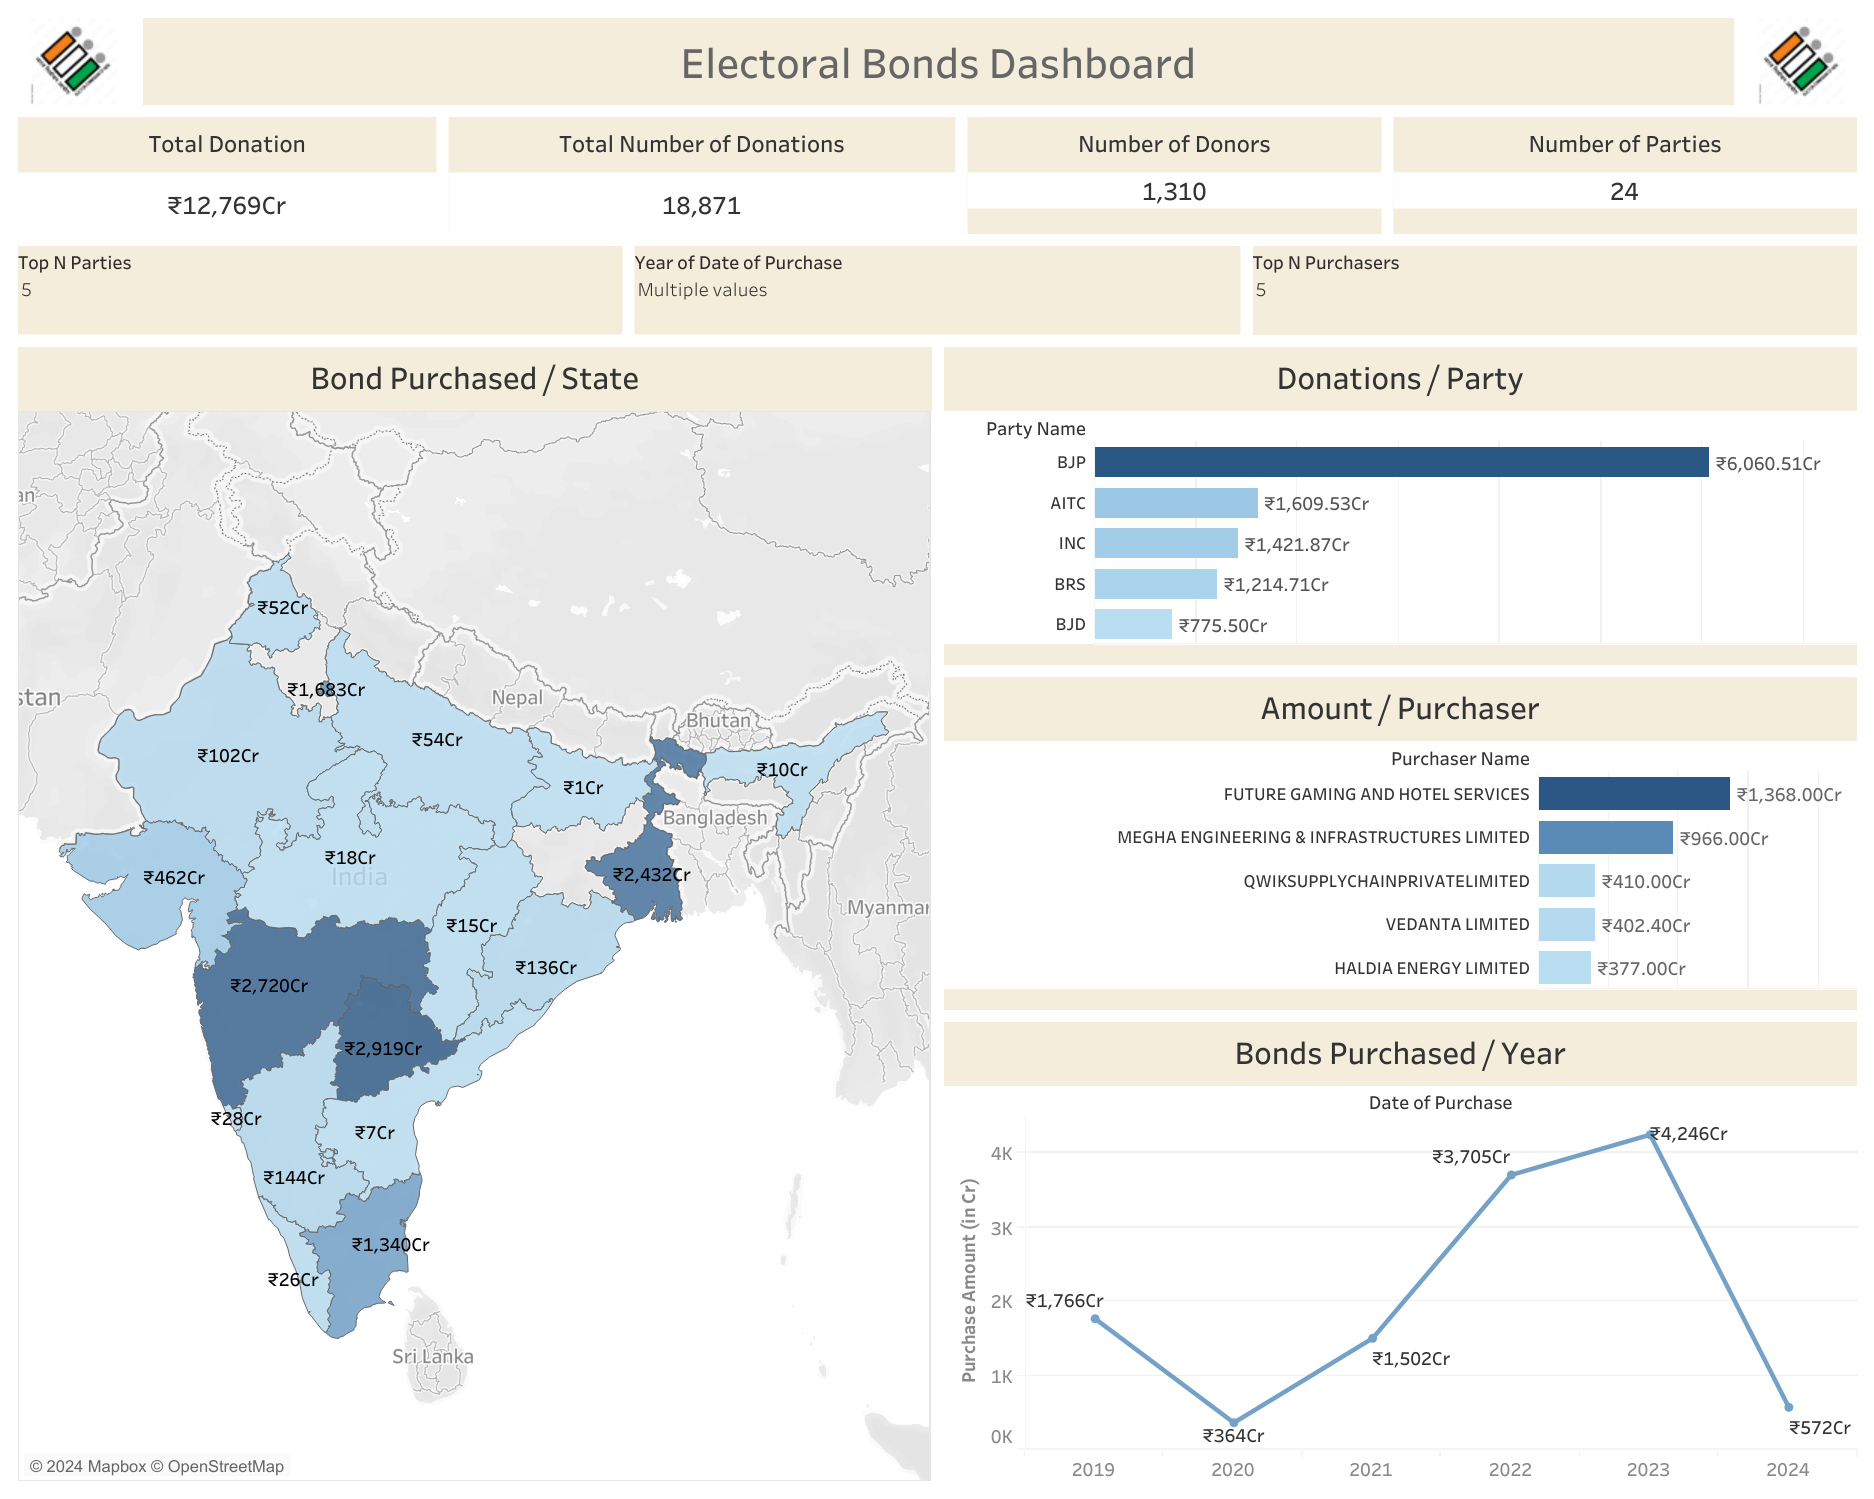

This screenshot's page, from the dashboard's own definition file:
{"tool":"tableau","page":{"name":"Elec Bonds Dashboard","canvas":[1250,1000],"ordinal":0},"visuals":[{"type":"image","param":"Image/1000_F_584266196_lFkZt7CCgGrlhil83DsI0MyGvd8eSDoc.jpg","box":[8,8,83.1,66]},{"type":"text","box":[91.1,8,1068.5,66]},{"type":"image","param":"Image/1000_F_584266196_lFkZt7CCgGrlhil83DsI0MyGvd8eSDoc.jpg","box":[1159.7,8,82.3,66]},{"type":"worksheet","title":"Total Donation","mark":"Automatic","box":[8,74,287.4,86]},{"type":"worksheet","title":"Total Number of Donators","mark":"Automatic","box":[295.4,74,346,86]},{"type":"worksheet","title":"Number of Donors","mark":"Automatic","box":[641.4,74,283.7,86]},{"type":"worksheet","title":"Number of Parties","mark":"Automatic","box":[925,74,317,86]},{"type":"parameter","param":"[Parameters].[Parameter 1]","box":[8,160,411.3,67]},{"type":"filter","title":"Bonds Purchased / Year","param":"[federated.11yg1jo1nt1qn817i2bl50r90y8g].[yr:Date of Purchase:ok]","box":[419.3,160,411.3,67]},{"type":"parameter","param":"[Parameters].[Parameter 2]","box":[830.7,160,411.4,67]},{"type":"worksheet","title":"Bond Purchased / State","mark":"Automatic","box":[8,227,617,765]},{"type":"worksheet","title":"Donations / Party","mark":"Automatic","rows":["Party Name"],"cols":["Calculation_2130765584051814400"],"box":[625,227,617,220]},{"type":"worksheet","title":"Amount / Purchaser","mark":"Automatic","rows":["Purchaser Name"],"cols":["Calculation_2130765584057094146"],"box":[625,447,617,230]},{"type":"worksheet","title":"Bonds Purchased / Year","mark":"Automatic","rows":["Calculation_2130765584057094146"],"cols":["Date of Purchase"],"box":[625,677,617,315]}]}

Visuals, with their boxes in screenshot pixels (x1, y1, x2, y2), scaled from the page's 1250x1000 canvas onto the 1874x1499 screenshot:
image: {"x1": 12, "y1": 12, "x2": 137, "y2": 111}
text: {"x1": 137, "y1": 12, "x2": 1738, "y2": 111}
image: {"x1": 1739, "y1": 12, "x2": 1862, "y2": 111}
"Total Donation" worksheet: {"x1": 12, "y1": 111, "x2": 443, "y2": 240}
"Total Number of Donators" worksheet: {"x1": 443, "y1": 111, "x2": 962, "y2": 240}
"Number of Donors" worksheet: {"x1": 962, "y1": 111, "x2": 1387, "y2": 240}
"Number of Parties" worksheet: {"x1": 1387, "y1": 111, "x2": 1862, "y2": 240}
parameter: {"x1": 12, "y1": 240, "x2": 629, "y2": 340}
"Bonds Purchased / Year" filter: {"x1": 629, "y1": 240, "x2": 1245, "y2": 340}
parameter: {"x1": 1245, "y1": 240, "x2": 1862, "y2": 340}
"Bond Purchased / State" worksheet: {"x1": 12, "y1": 340, "x2": 937, "y2": 1487}
"Donations / Party" worksheet: {"x1": 937, "y1": 340, "x2": 1862, "y2": 670}
"Amount / Purchaser" worksheet: {"x1": 937, "y1": 670, "x2": 1862, "y2": 1015}
"Bonds Purchased / Year" worksheet: {"x1": 937, "y1": 1015, "x2": 1862, "y2": 1487}
